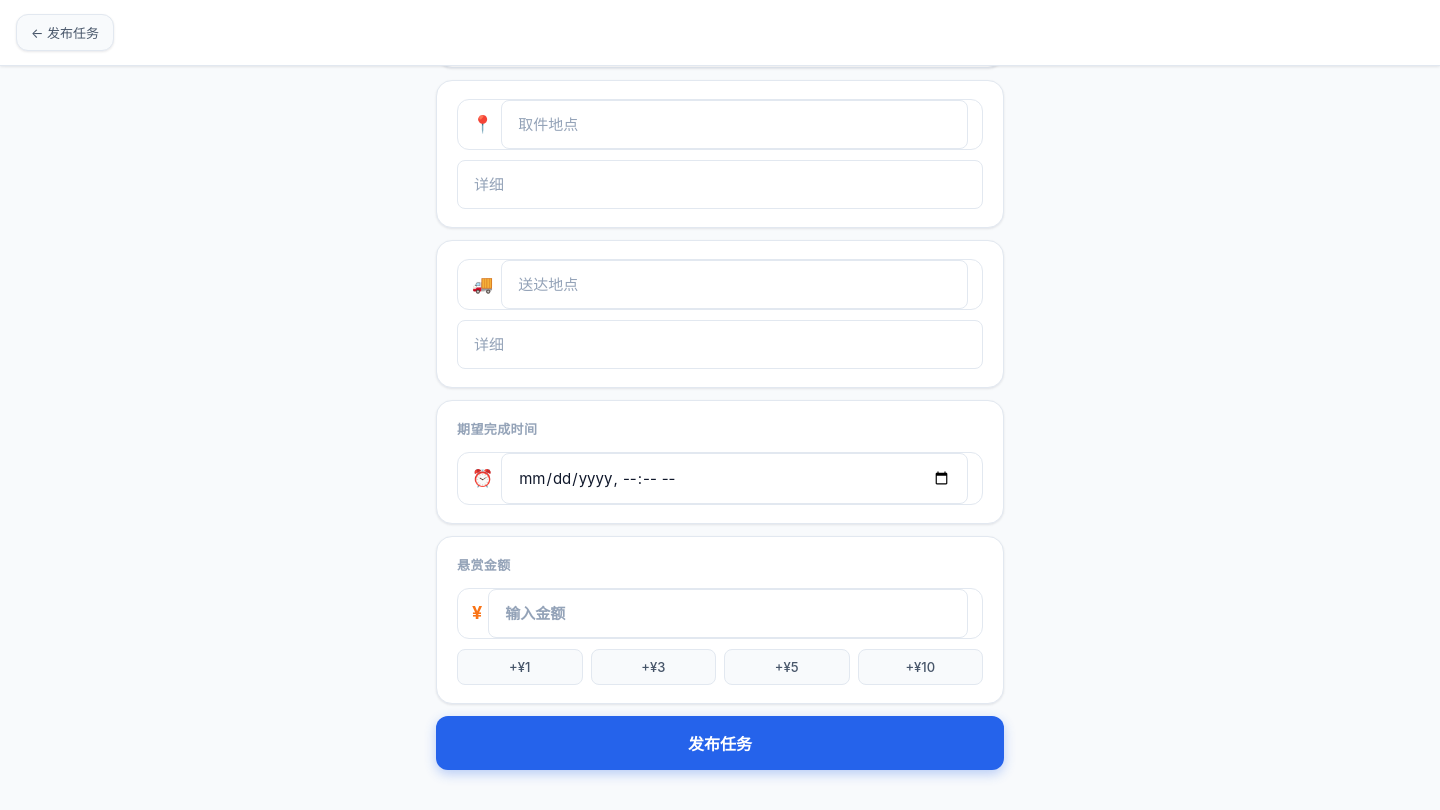
Test case: TaskPublish Component › 应该能够点击快速金额按钮累加金额
(page scrolled)
What coordinates should you click on to do the following:
click the button "+¥1"
I would click on:
 (520, 667)
Its box is [457,649,582,685].
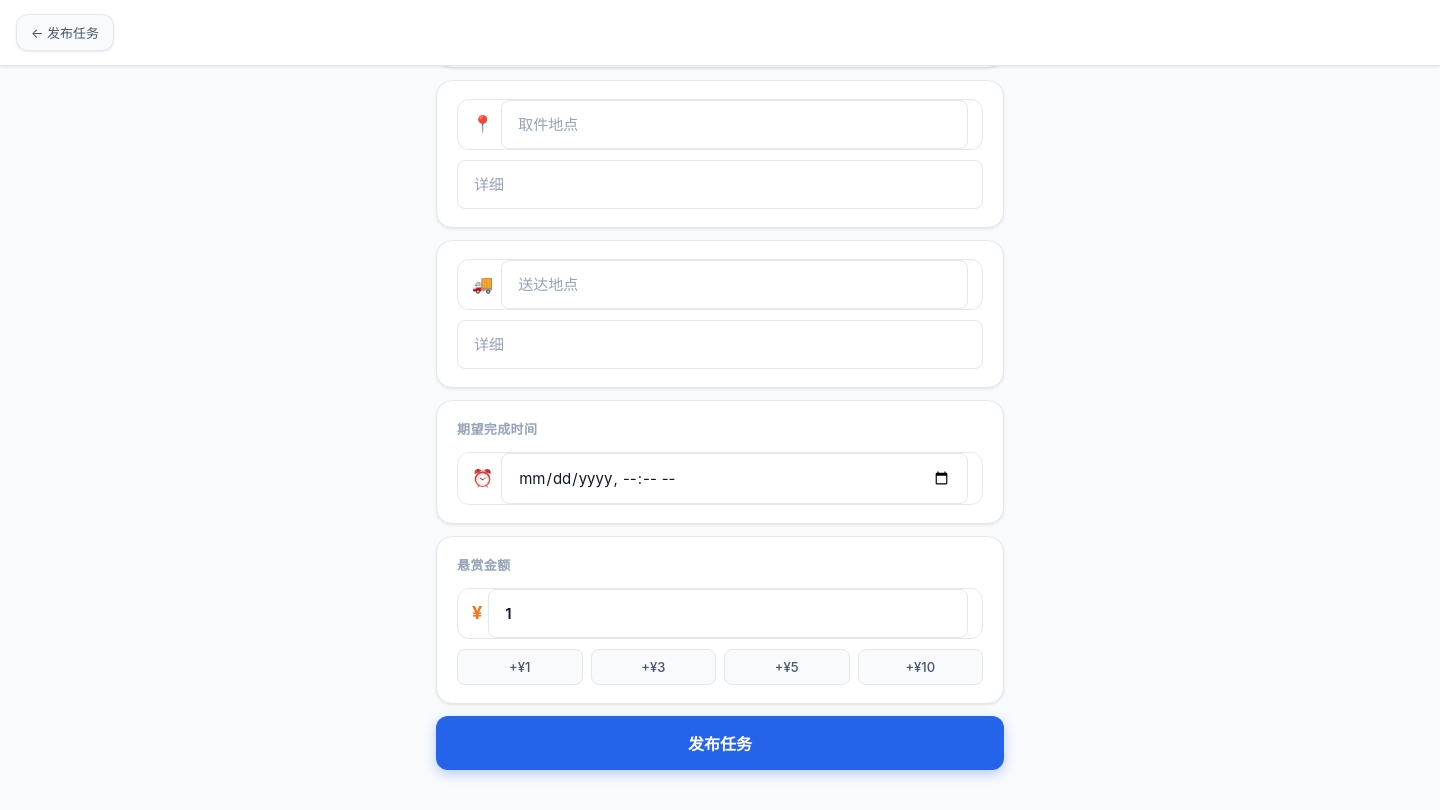
Now the number field with placeholder "输入金额" holds "1", box [488,589,968,638]
What coordinates should you click on to do the following:
click the button "+¥5"
I would click on:
 (787, 667)
Its box is [724,649,850,685].
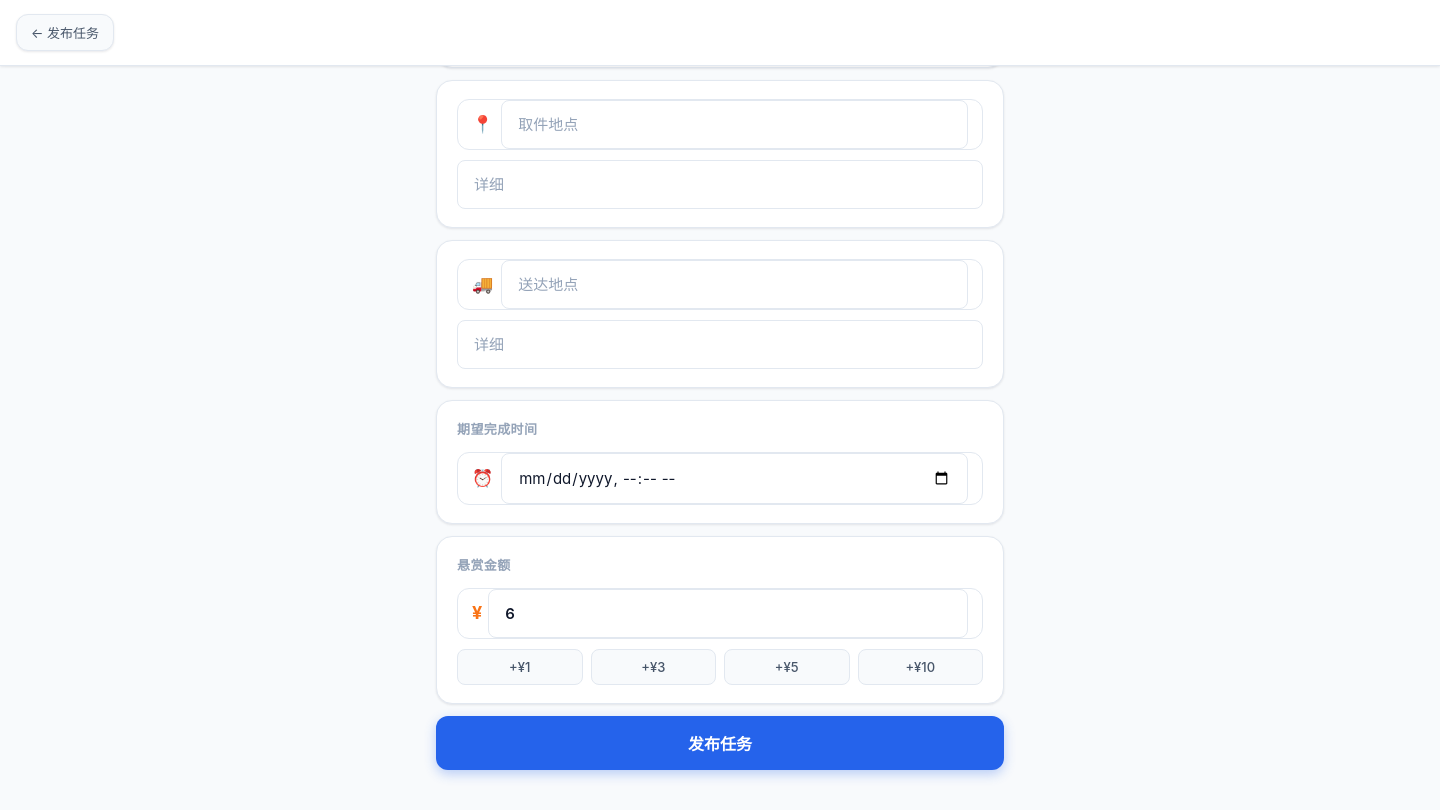
Now the number field with placeholder "输入金额" holds "6", box [488,589,968,638]
